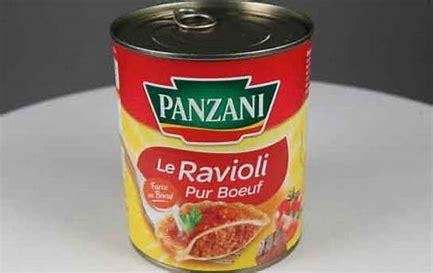metal: (111, 2, 312, 270)
